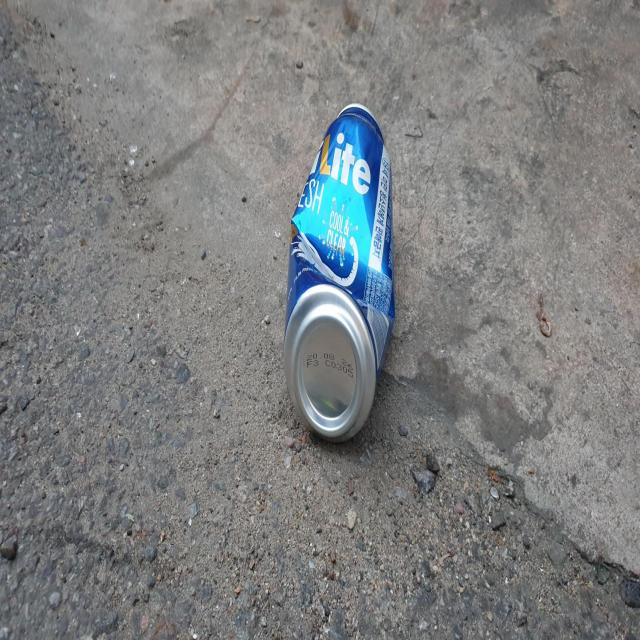can: (284, 103, 395, 440)
